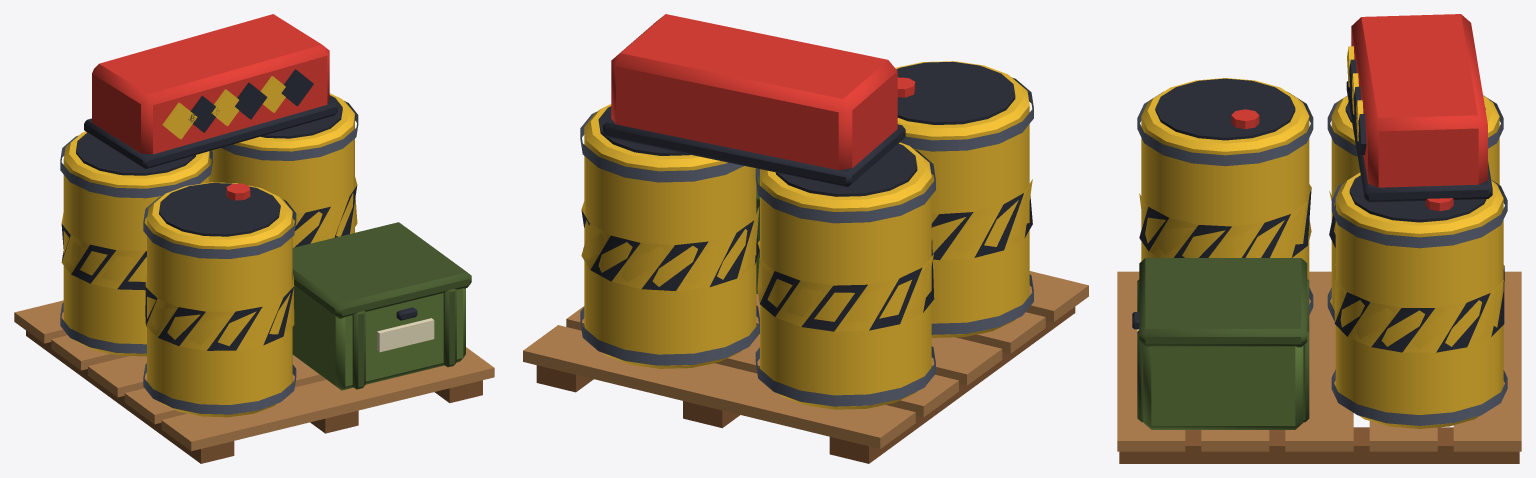
The model's file is crate.glb.
3 views of the same model, side by side, from view 1: azimuth 30°, elevation 25°; view 2: azimuth 150°, elevation 25°; view 3: azimuth 270°, elevation 25° (orthographic). The views are drawn at different scales.
Parts seen in each view (by area): view 1: crate; view 2: crate; view 3: crate.
Boxes of the visible parts, box(x1,y1,x2,y2) form: crate: box(14, 14, 494, 463); crate: box(523, 14, 1088, 463); crate: box(1117, 14, 1521, 463).
Size of the model in its own units: 2 by 1.76 by 2.02.
